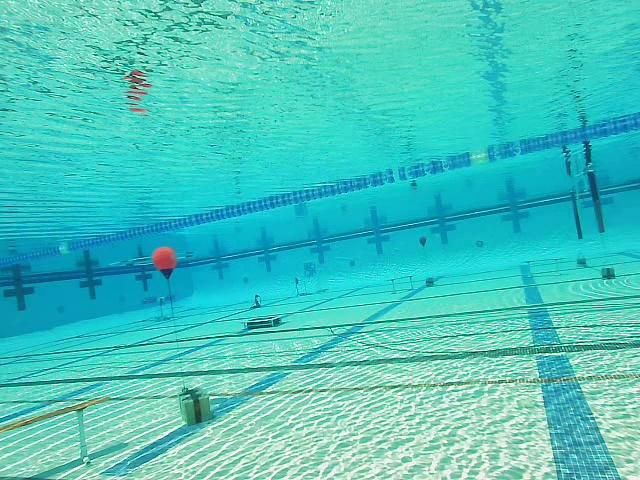buoy: (153, 248, 176, 280)
